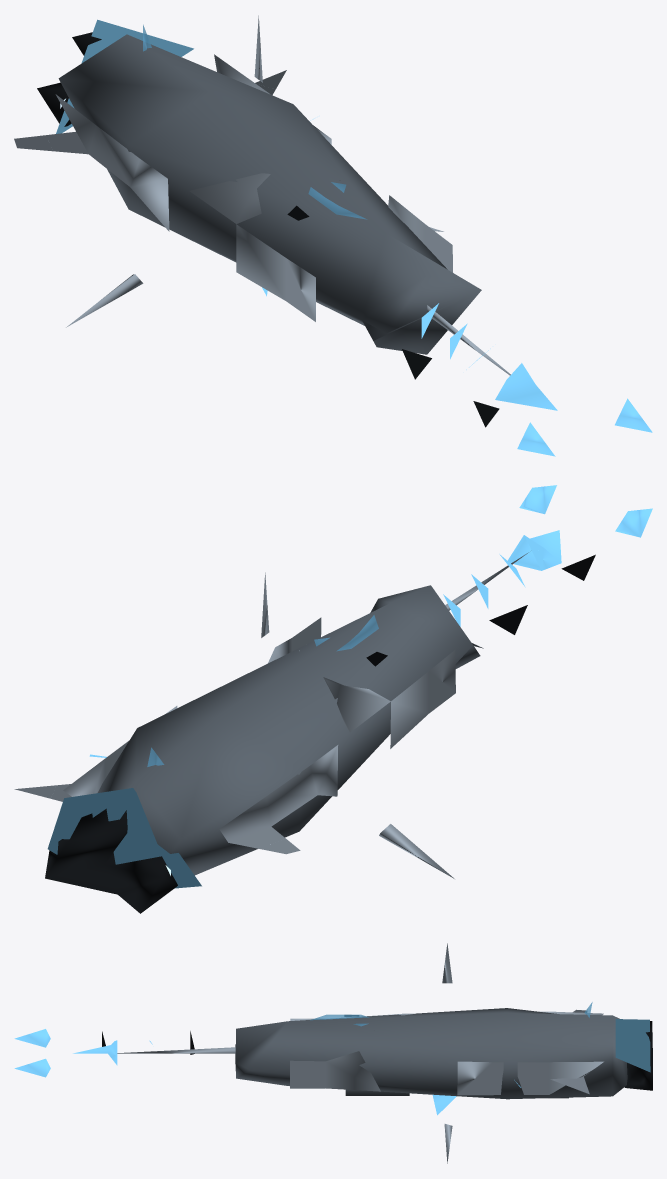
The model's file is kamerton-rezonanci-trade-12-lod2.glb.
3 views of the same model, one above another, from view 1: azimuth 30°, elevation 25°; view 2: azimuth 150°, elevation 25°; view 3: azimuth 270°, elevation 25° (orthographic). The views are drawn at different scales.
Size of the model in its own units: 12.9 by 8.96 by 29.93.
